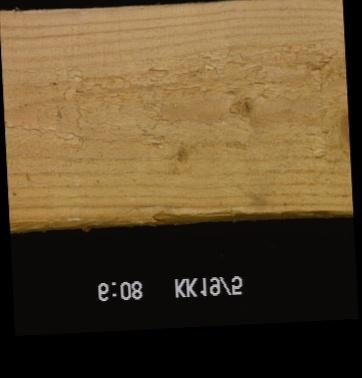small_knot: (162, 139, 192, 177), (225, 95, 258, 122)
sound_knot: (329, 104, 348, 162)
wave: (9, 206, 352, 224)
